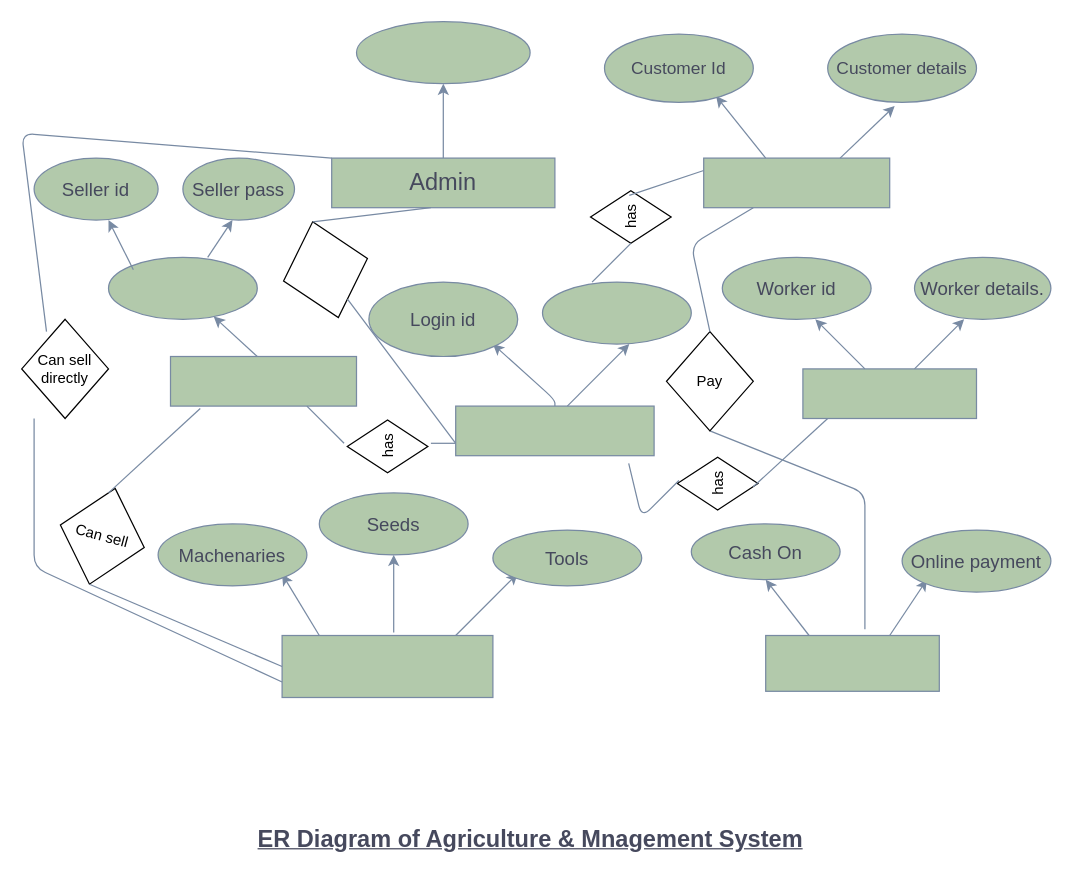
This 1073x875 diagram has some shape labels left out. The shapes that lost their labels are listed below. From the top down, each one's centre as x and y in pixels, then its label:
the point at 442,52: Administrator all website info.
the point at 796,182: Customer
the point at 182,287: Registration
the point at 324,269: approve
the point at 616,312: Login pass
the point at 262,380: Seller
the point at 889,393: Worker
the point at 554,430: Login
the point at 387,666: Products
the point at 851,662: Payment
